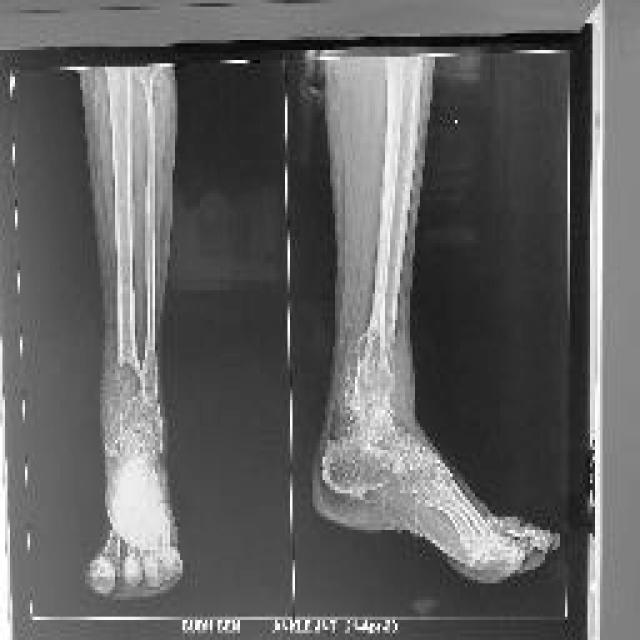bone-cancer: (99, 353, 166, 475), (352, 323, 395, 424)
